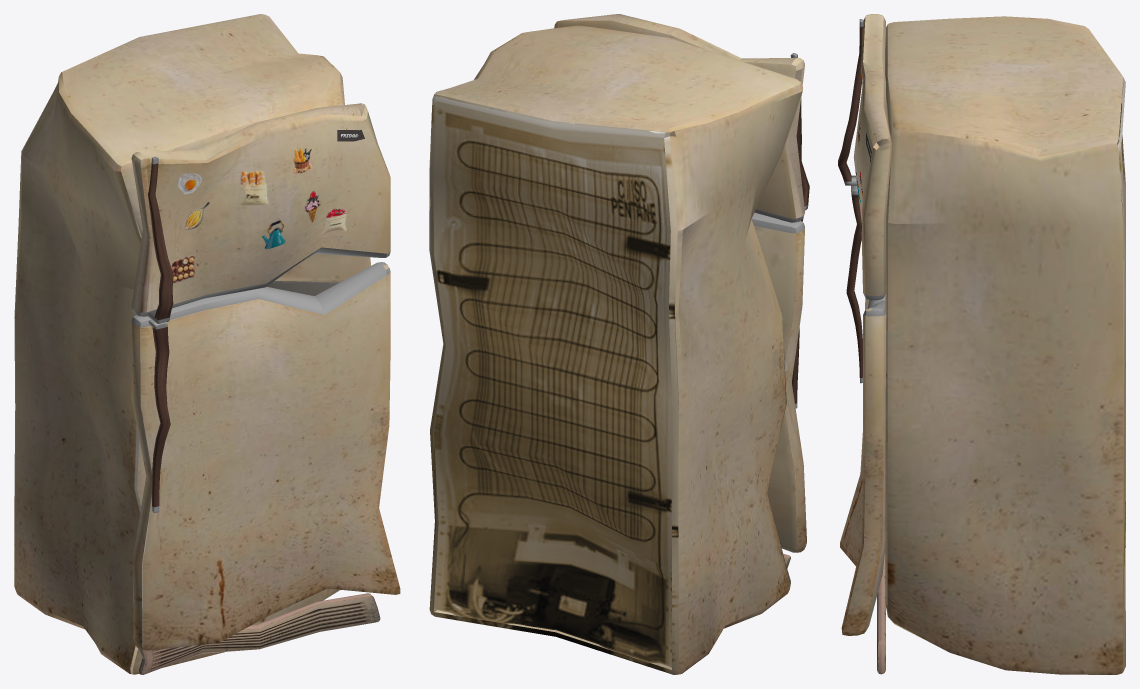
Rendered from Fridge Ragdoll.fbx.
3 views of the same model, side by side, from view 1: azimuth 30°, elevation 25°; view 2: azimuth 150°, elevation 25°; view 3: azimuth 270°, elevation 25° (orthographic). The views are drawn at different scales.
Visible parts, largest first — view 1: Fridge Ragdoll, Door Ragdoll, Freezer Door Ragdoll, Vent Ragdoll, Handle Bottom.001, Handle Top.001; view 2: Fridge Ragdoll, Door Ragdoll, Freezer Door Ragdoll; view 3: Fridge Ragdoll, Door Ragdoll, Freezer Door Ragdoll, Handle Bottom.001, Handle Top.001, Vent Ragdoll.
Part boxes in pixels (x1,y1,x2,y2): Fridge Ragdoll: (14, 14, 371, 674); Door Ragdoll: (131, 262, 400, 650); Freezer Door Ragdoll: (131, 103, 390, 316); Vent Ragdoll: (139, 593, 380, 674); Handle Bottom.001: (148, 319, 170, 512); Handle Top.001: (147, 156, 173, 323); Fridge Ragdoll: (429, 25, 802, 674); Door Ragdoll: (751, 212, 806, 552); Freezer Door Ragdoll: (554, 14, 804, 222); Fridge Ragdoll: (885, 16, 1125, 674); Door Ragdoll: (840, 295, 886, 635); Freezer Door Ragdoll: (853, 14, 891, 300); Handle Bottom.001: (846, 185, 862, 383); Handle Top.001: (838, 19, 863, 185); Vent Ragdoll: (877, 552, 885, 674).
Bounding box in the file's own units: 378 × 724 × 349.
